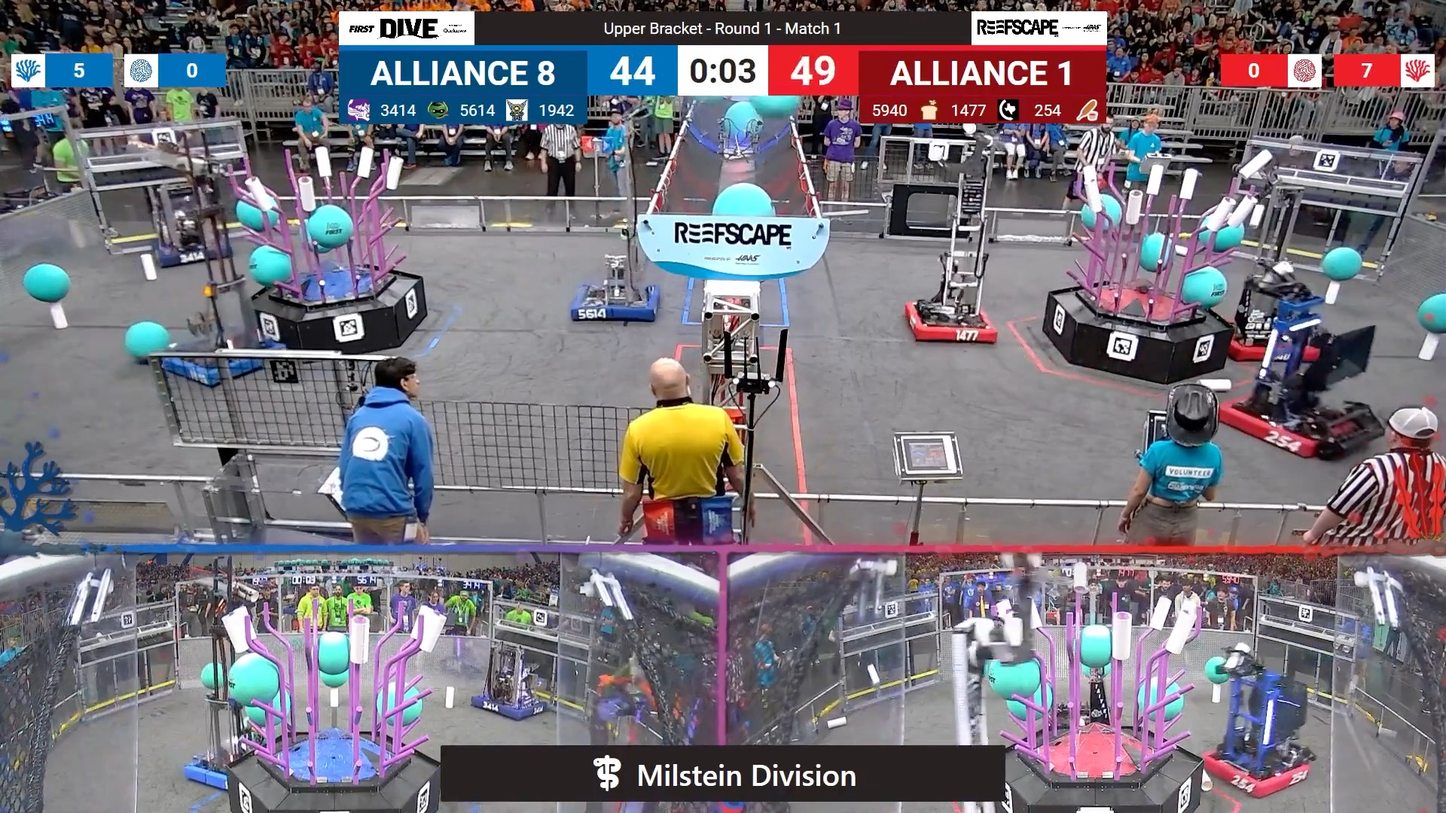bumpers: (1212, 385, 1378, 456), (1219, 320, 1348, 369), (1201, 745, 1316, 797), (900, 299, 1006, 353), (157, 344, 277, 389), (568, 281, 666, 329), (464, 686, 551, 726), (182, 730, 229, 790), (142, 240, 239, 268)
